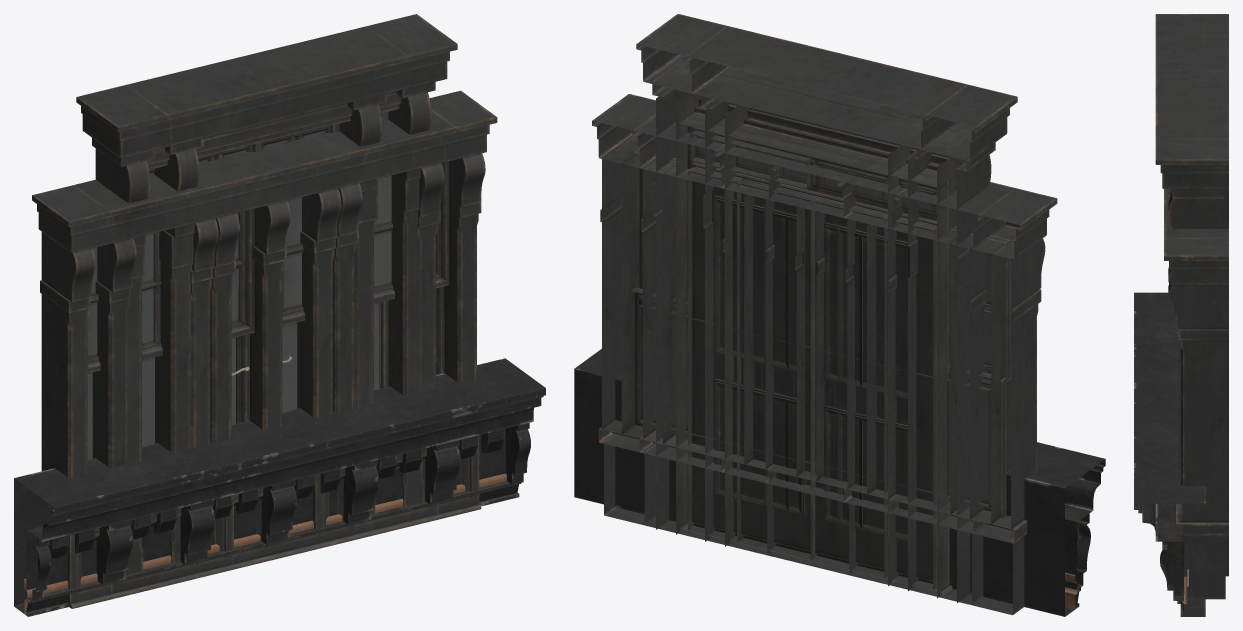
File: urban-facade.glb
The picture shows the model from 3 angles, left to right: view 1: azimuth 30°, elevation 25°; view 2: azimuth 150°, elevation 25°; view 3: azimuth 270°, elevation 25°; orthographic projection. The views are drawn at different scales.
Visible parts, largest first — view 1: crown_standard_standard_01, window_centered_double_01, window_centered_large_01, door_centered_large_01, door_centered_small_01, window_centered_small_01, cornice_standard_standard_01; view 2: door_centered_large_01, door_centered_small_01, window_centered_double_01, window_centered_large_01, crown_standard_standard_01, window_centered_small_01; view 3: window_centered_double_01, door_centered_large_01, crown_standard_standard_01, door_centered_small_01, window_centered_large_01, cornice_standard_standard_01.
Part boxes in pixels (x1=…): crown_standard_standard_01: x1=14, y1=358, x2=545, y2=616; window_centered_double_01: x1=32, y1=90, x2=497, y2=608; window_centered_large_01: x1=73, y1=109, x2=456, y2=598; door_centered_large_01: x1=76, y1=14, x2=457, y2=574; door_centered_small_01: x1=126, y1=27, x2=408, y2=563; window_centered_small_01: x1=187, y1=146, x2=373, y2=578; cornice_standard_standard_01: x1=24, y1=473, x2=506, y2=613; door_centered_large_01: x1=636, y1=14, x2=1017, y2=602; door_centered_small_01: x1=685, y1=26, x2=968, y2=590; window_centered_double_01: x1=592, y1=94, x2=1057, y2=615; window_centered_large_01: x1=633, y1=114, x2=1015, y2=605; crown_standard_standard_01: x1=574, y1=349, x2=1105, y2=616; window_centered_small_01: x1=715, y1=144, x2=906, y2=584; window_centered_double_01: x1=1164, y1=189, x2=1228, y2=599; door_centered_large_01: x1=1155, y1=14, x2=1228, y2=576; crown_standard_standard_01: x1=1134, y1=292, x2=1205, y2=616; door_centered_small_01: x1=1155, y1=35, x2=1228, y2=199; window_centered_large_01: x1=1164, y1=189, x2=1228, y2=505; cornice_standard_standard_01: x1=1182, y1=569, x2=1188, y2=604.
Bounding box in the file's own units: 3 × 2.81 × 0.57.
4 materials, 4 textured.
